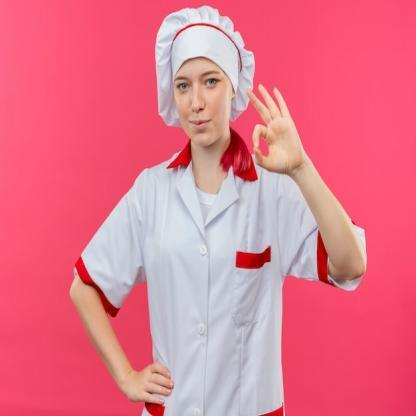ok: (243, 80, 301, 179)
